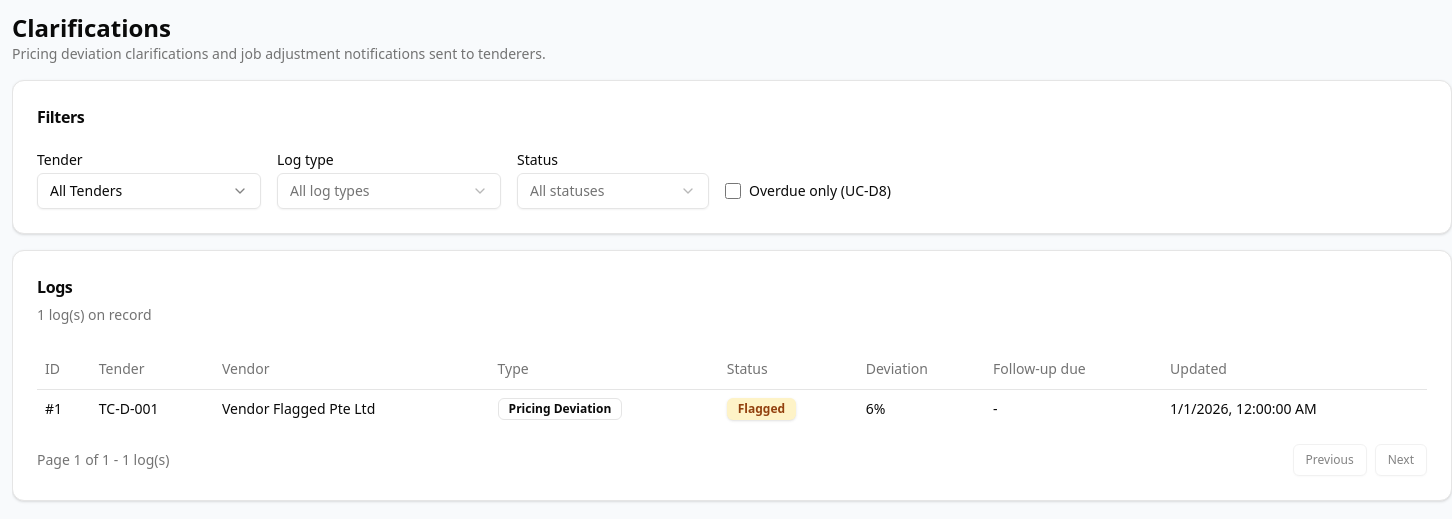
Scenario: ClarificationLogsPage (Sulaiman - Scope D) › filters by tender and shows the adjust-filters hint, then clears back to the full list (edge case)
Expected: the text "TC-D-001" is shown, left=91, top=389, right=214, bottom=428
Click the dropdown labelled "Tender" at coordinates (149, 191), box left=37, top=173, right=261, bottom=209
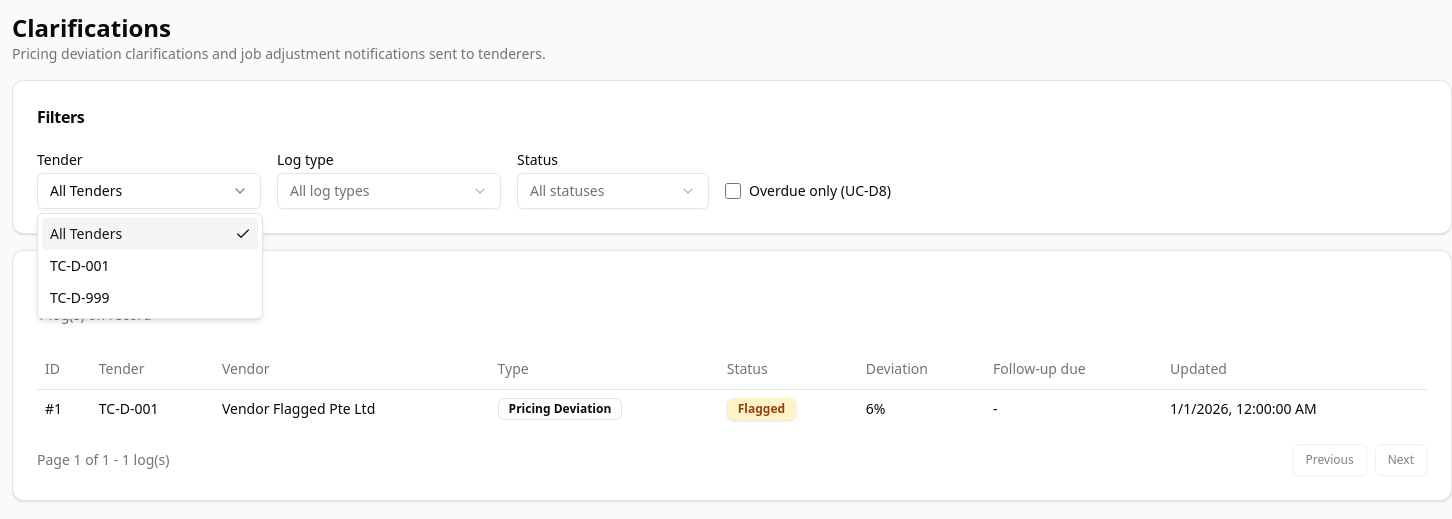
Click the option "TC-D-999" at coordinates (80, 298), box left=50, top=288, right=110, bottom=307
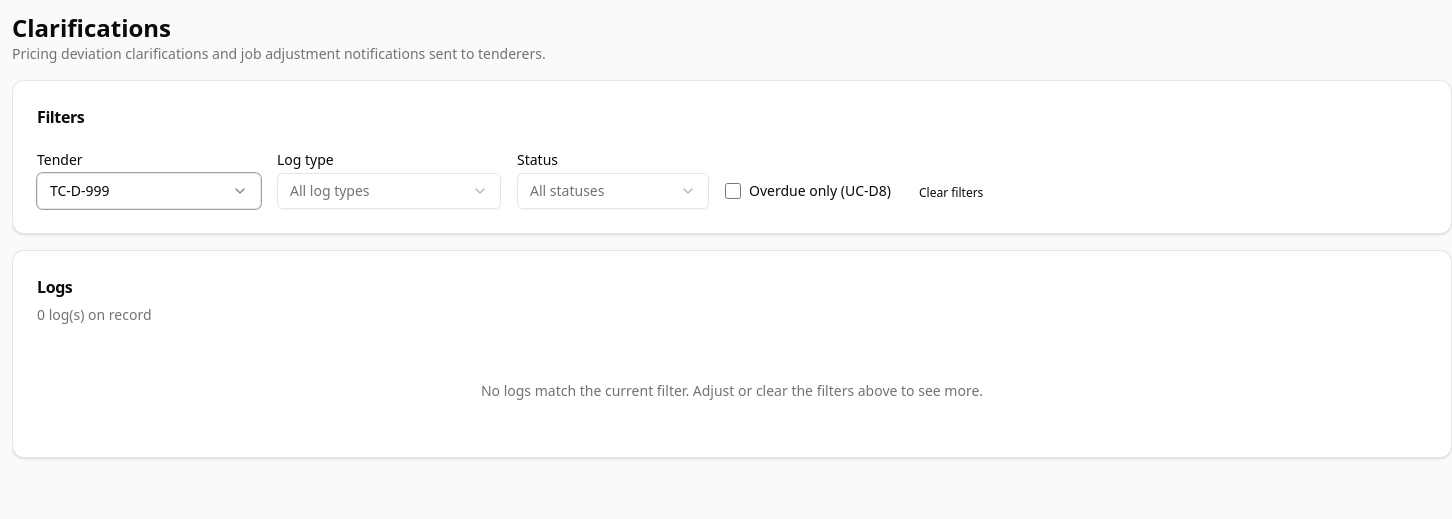
Expected: the text "No logs match the current filter. Adjust or clear the filters above to see more." is shown, left=481, top=381, right=983, bottom=400
Click the button "Clear filters" at coordinates (951, 193), box left=907, top=177, right=995, bottom=209
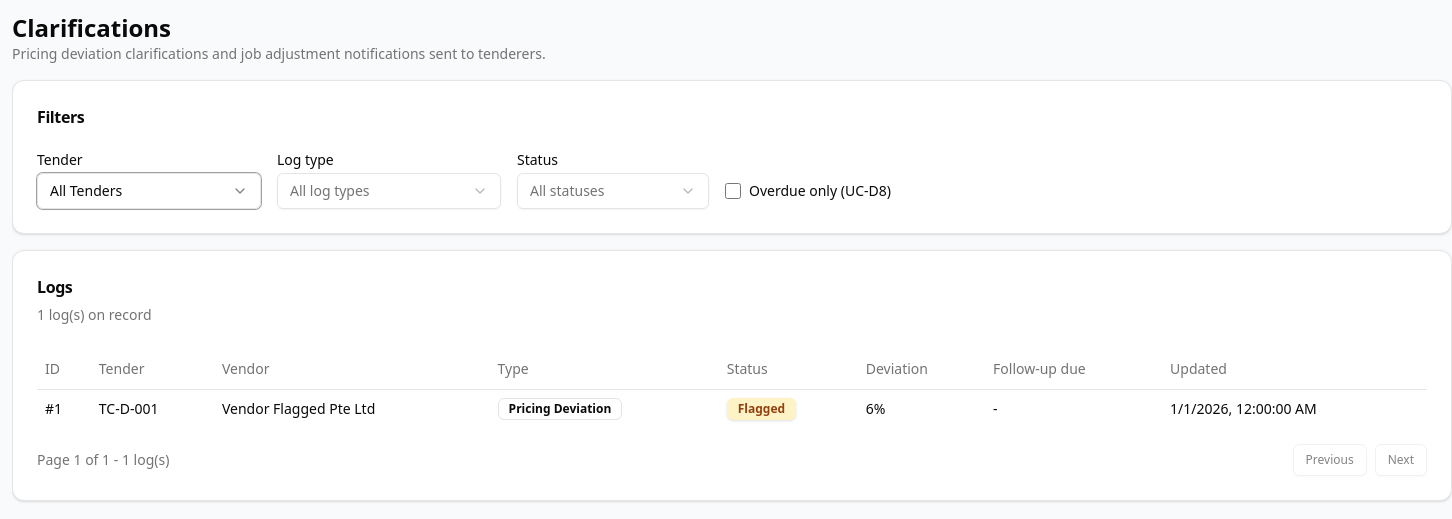
Expected: the text "TC-D-001" is shown, left=91, top=389, right=214, bottom=428
